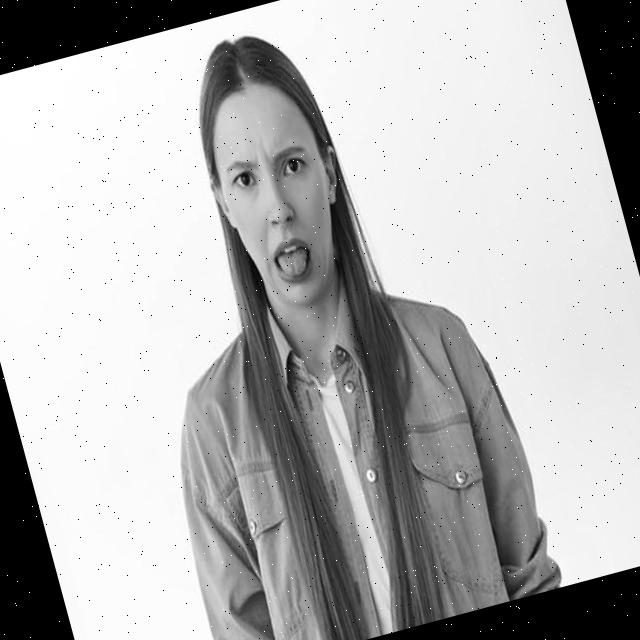Disgust: (198, 72, 358, 318)
